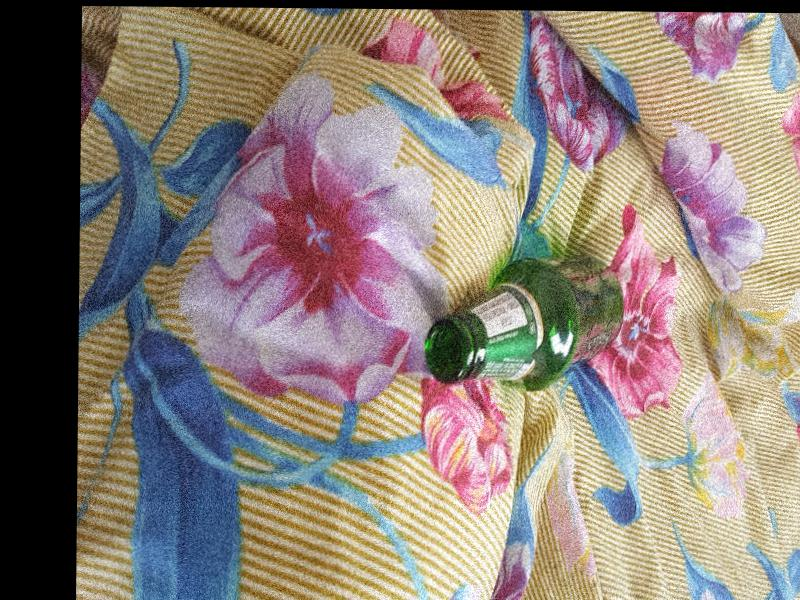Beer: (424, 261, 623, 391)
